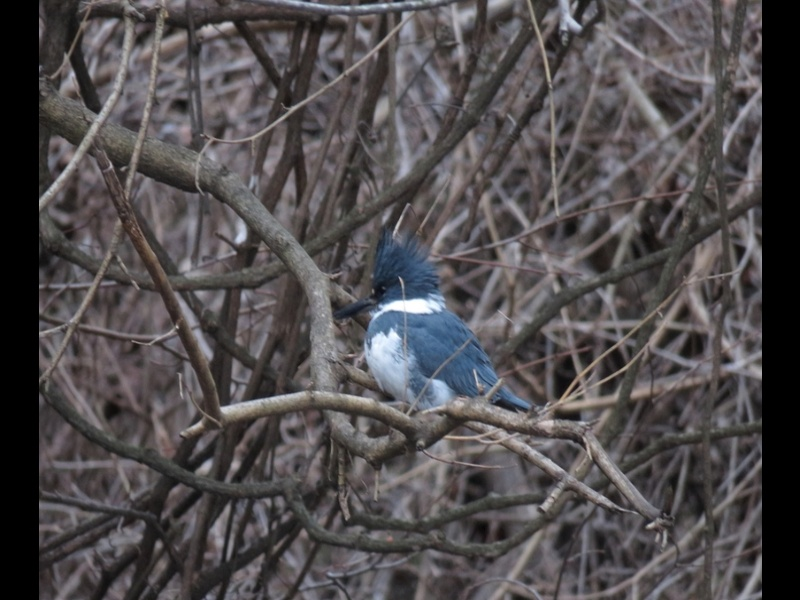kingfisher: (335, 236, 536, 438)
